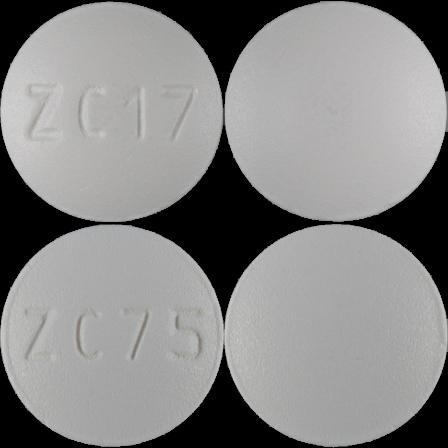53808-0682: (0, 0, 224, 224)
